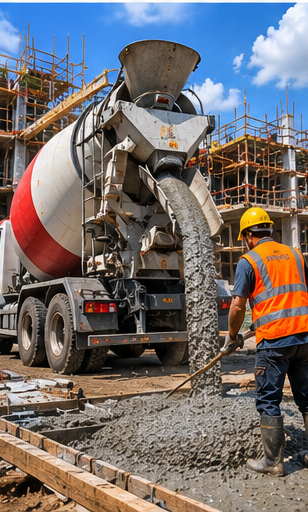hardhat: (230, 205, 273, 245)
person: (199, 199, 308, 484)
safety_vest: (238, 243, 306, 337)
truck: (12, 54, 209, 365)
